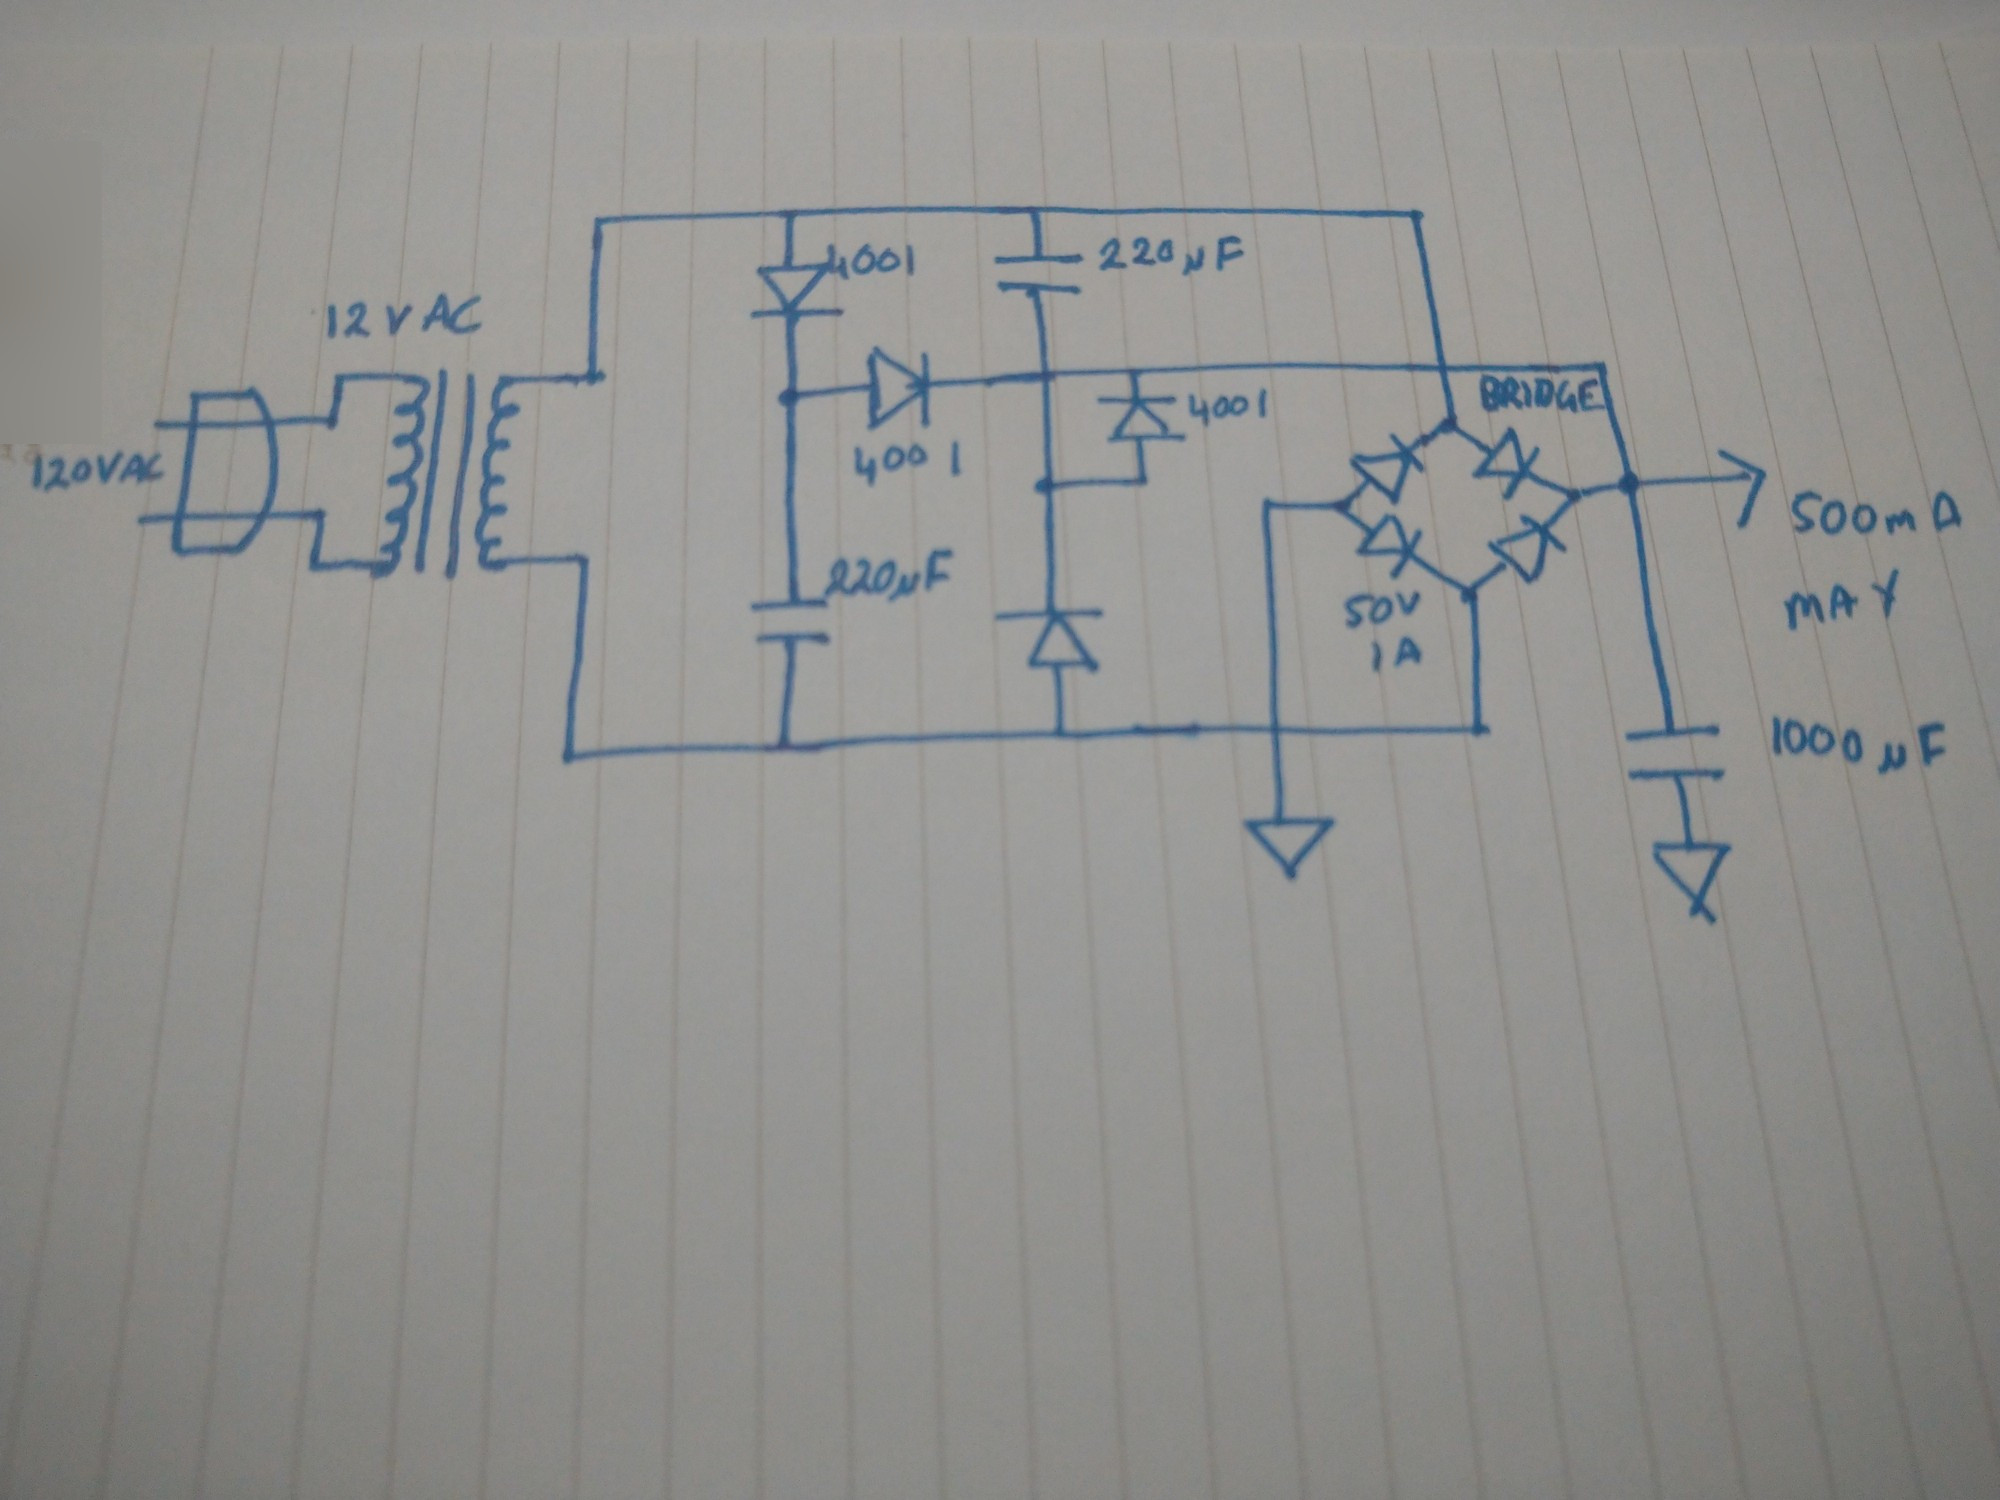capacitor.unpolarized: (1619, 717, 1739, 785), (740, 592, 835, 652), (991, 251, 1090, 296)
crossover: (1258, 718, 1287, 739), (1431, 358, 1457, 378), (1036, 367, 1057, 388)
diode: (992, 596, 1112, 676), (861, 343, 939, 436), (743, 262, 846, 326), (1468, 424, 1550, 503), (1485, 512, 1569, 585), (1348, 432, 1427, 507), (1094, 392, 1189, 449), (1354, 512, 1424, 581)
junction: (1033, 474, 1061, 503), (776, 384, 805, 413), (1436, 411, 1465, 438), (1617, 471, 1643, 499), (1465, 718, 1490, 741), (1564, 484, 1587, 506), (1457, 581, 1480, 603), (772, 734, 794, 756), (1121, 362, 1145, 383), (583, 369, 605, 389), (1405, 205, 1428, 224), (561, 744, 580, 767), (1132, 471, 1153, 492), (780, 205, 800, 225), (1049, 723, 1069, 744), (1332, 496, 1351, 517), (1257, 495, 1276, 515), (323, 413, 342, 432), (1025, 202, 1044, 219), (310, 507, 331, 523), (1592, 358, 1609, 375), (592, 213, 608, 230), (331, 370, 346, 388), (575, 551, 591, 567), (306, 558, 321, 574)
socket: (169, 377, 283, 562)
terminal: (1647, 837, 1745, 926), (1238, 815, 1339, 882), (1713, 446, 1769, 531), (123, 503, 157, 540), (142, 411, 172, 438)
text: (1769, 711, 1954, 780), (1789, 485, 1965, 540), (1781, 564, 1910, 635), (321, 291, 487, 343), (824, 545, 962, 603), (1094, 233, 1247, 282), (28, 447, 165, 495), (1471, 373, 1608, 418), (850, 438, 965, 490), (824, 241, 920, 285), (1186, 386, 1276, 429), (1342, 588, 1424, 632), (1369, 633, 1424, 676)
transformer: (373, 369, 531, 585)
